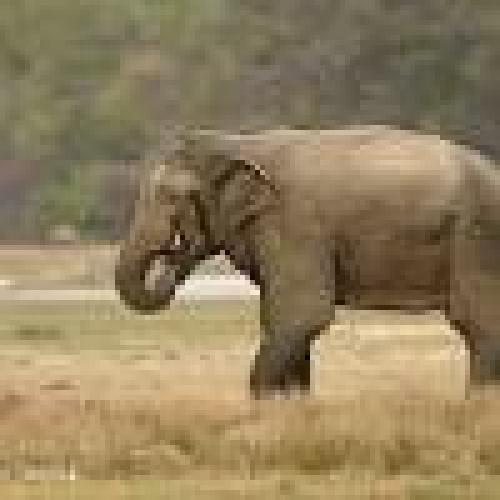asian_elephant-endangered: (115, 124, 500, 399)
